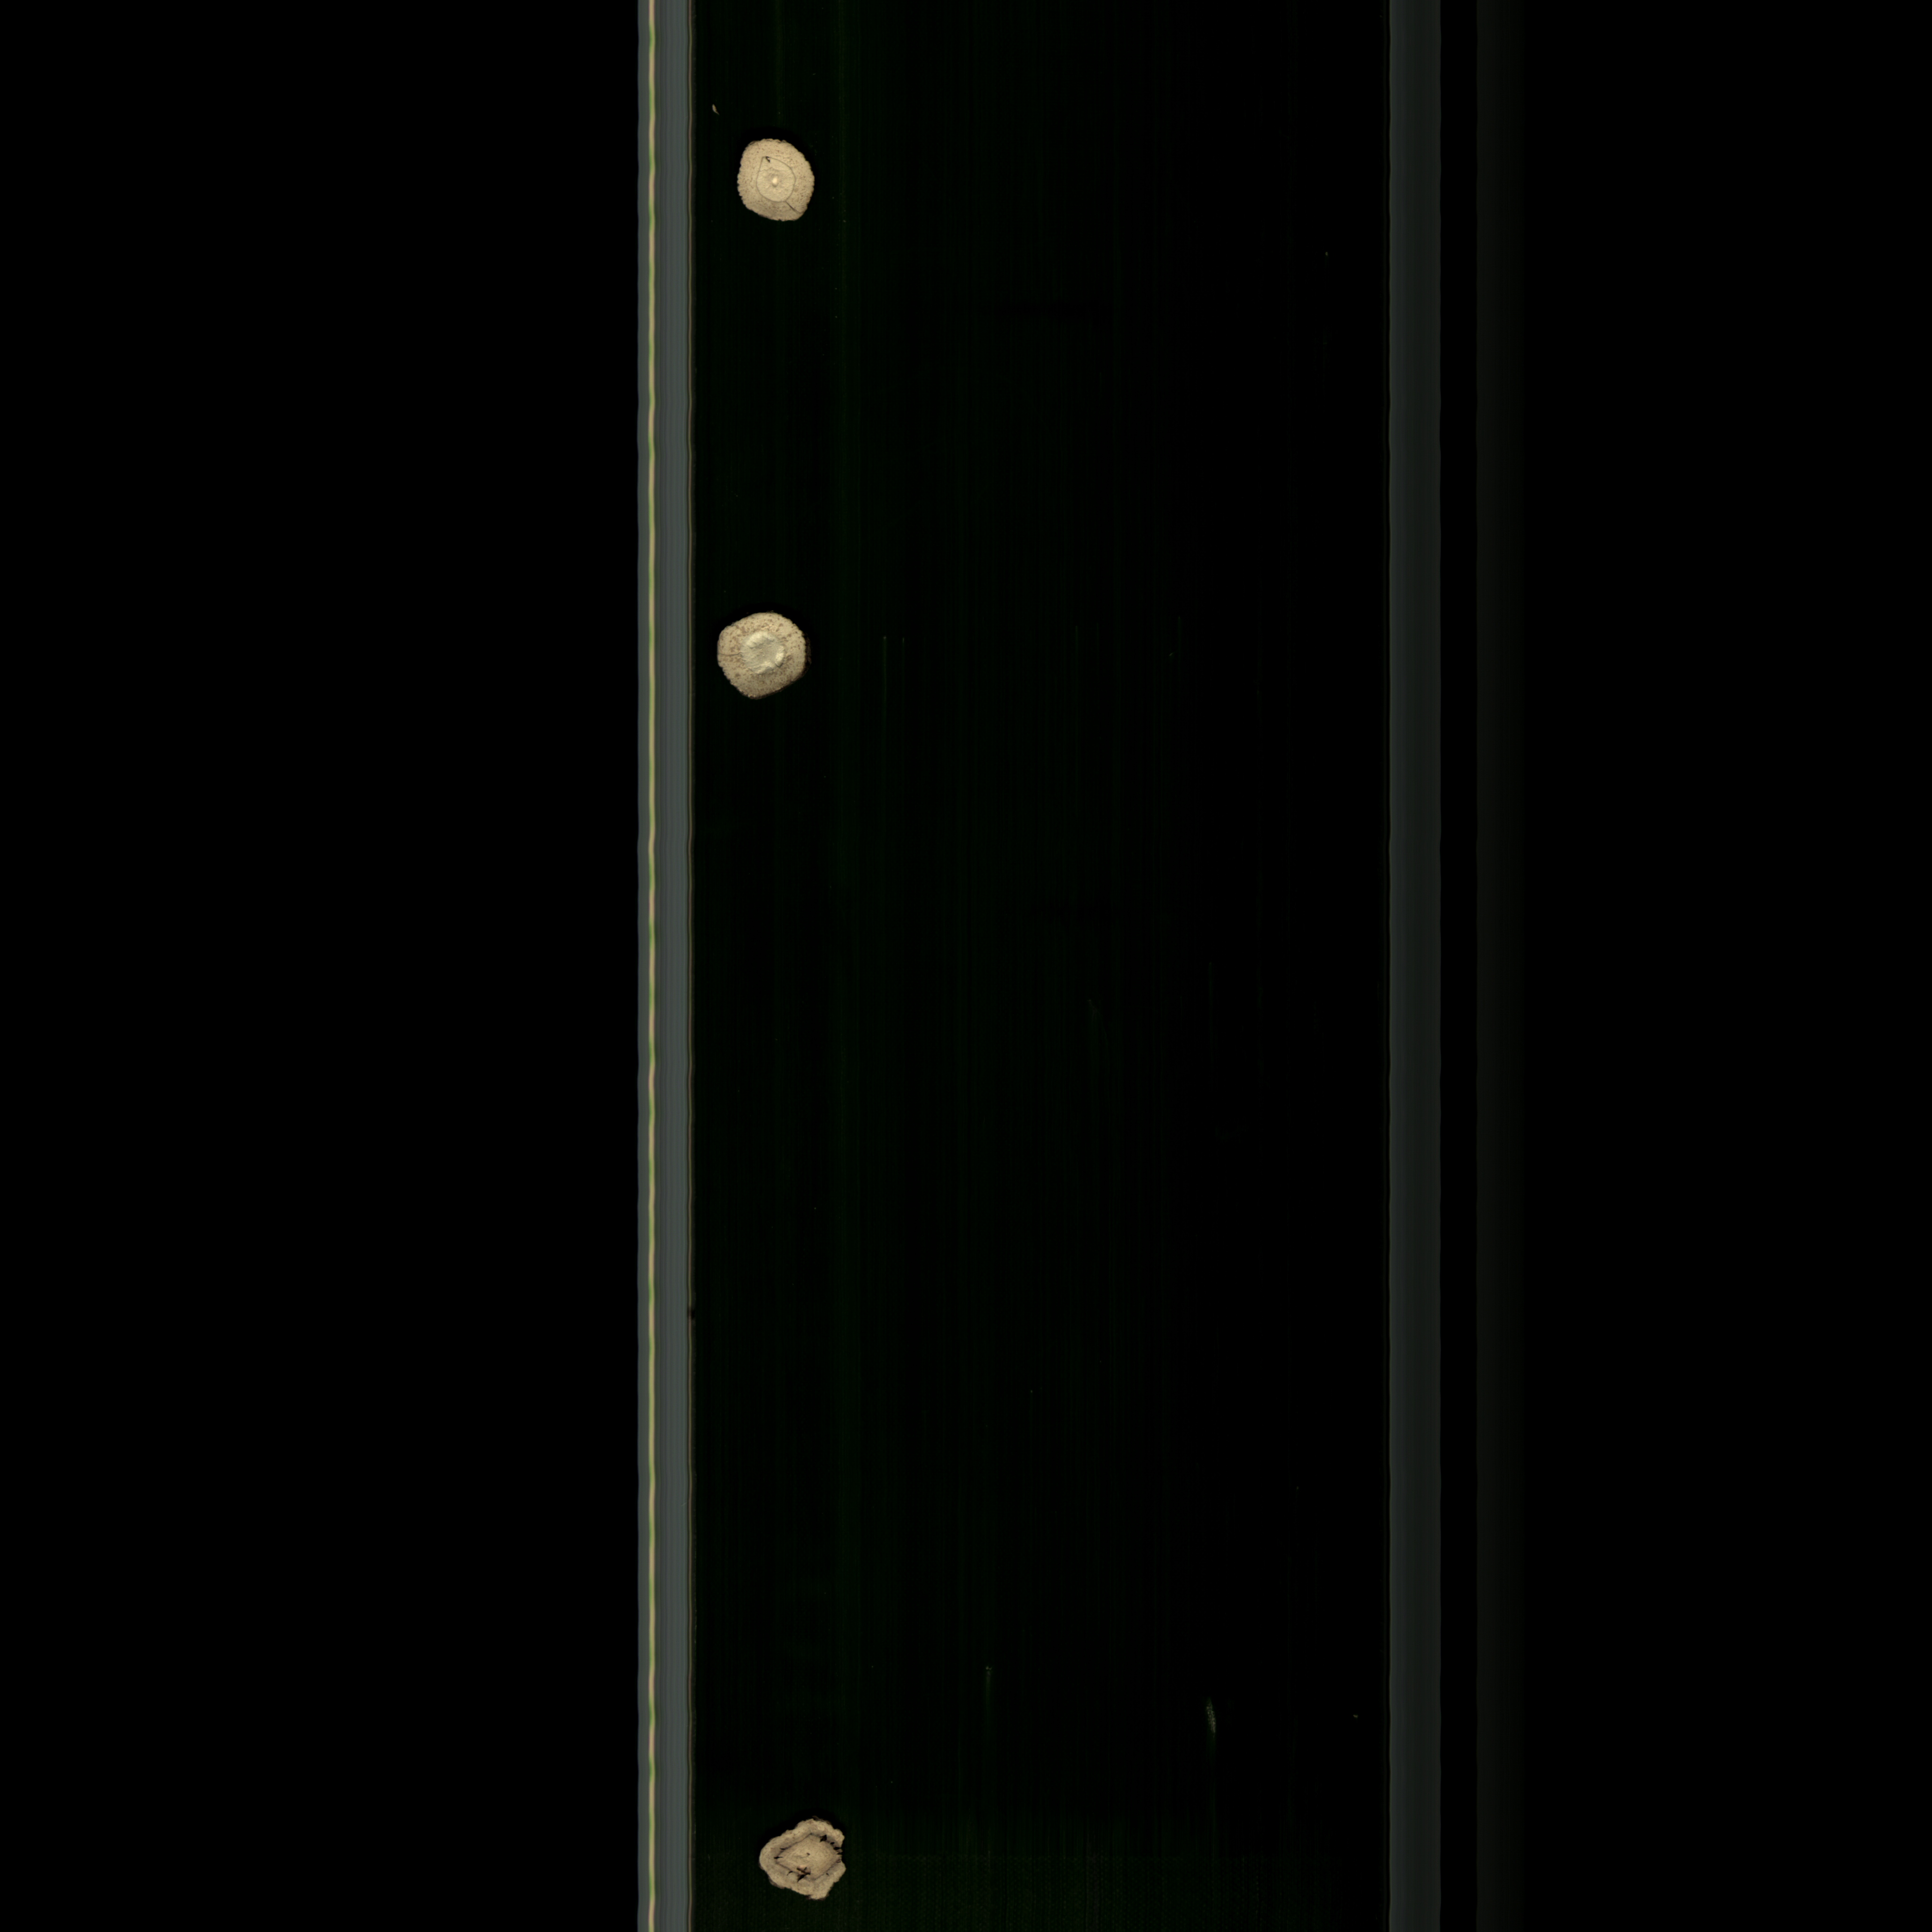hole: (727, 134, 821, 230)
moldy: (743, 1819, 870, 1904)
